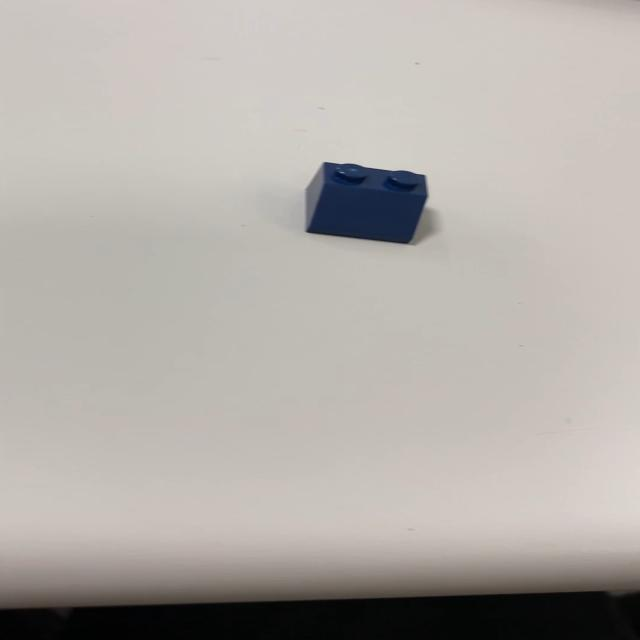P2x2x1: (303, 160, 428, 244)
